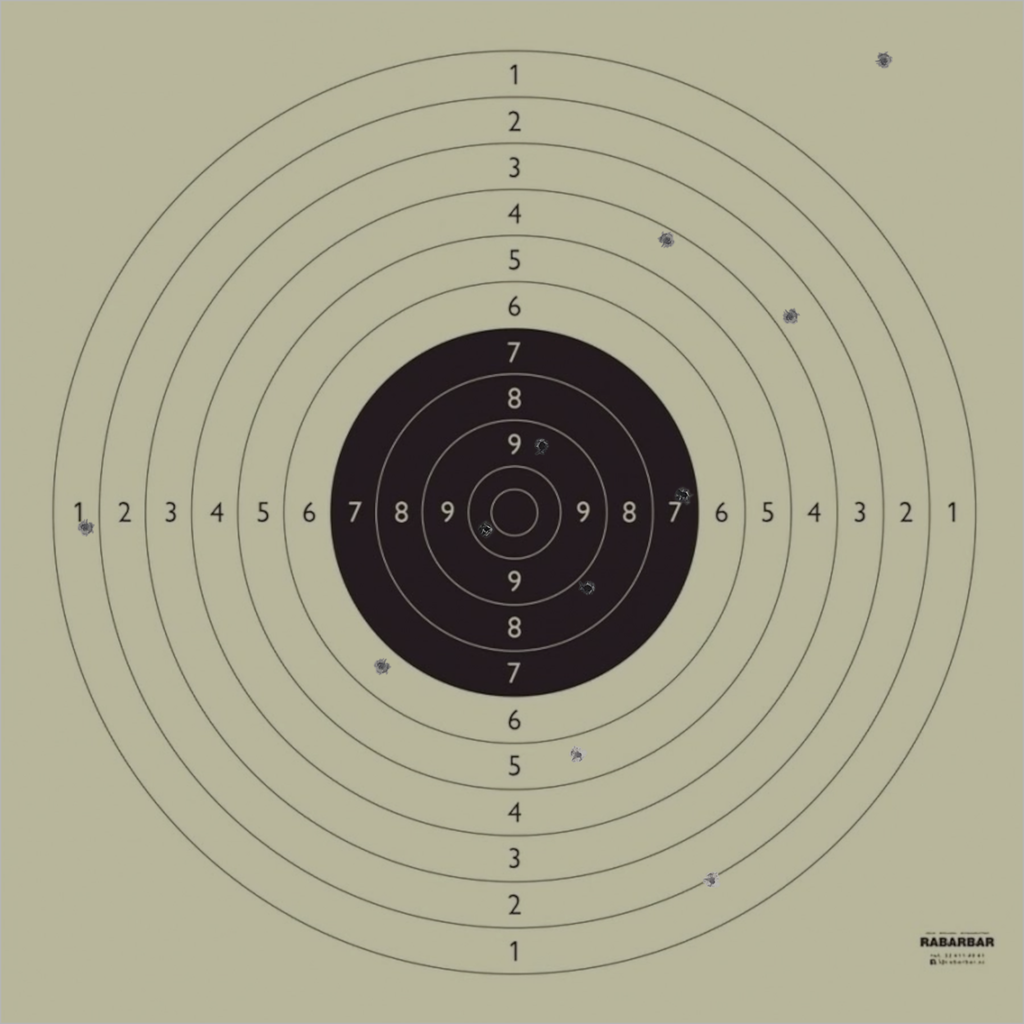0 punktow: (875, 52, 893, 70)
1 punkt: (76, 518, 95, 537)
10 punktow: (478, 520, 496, 538)
2 punkty: (703, 871, 721, 890)
3 punkty: (781, 307, 799, 326)
4 punkty: (658, 231, 676, 250)
5 punktow: (569, 746, 587, 764)
6 punktow: (372, 657, 391, 675)
7 punktow: (675, 486, 693, 504)
8 punktow: (578, 579, 597, 597)
9 punktow: (533, 437, 551, 455)
